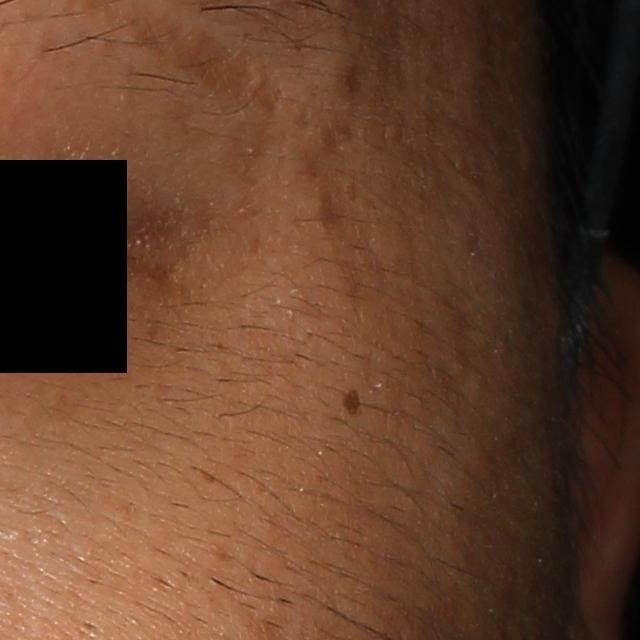nevus: (338, 385, 366, 420)
